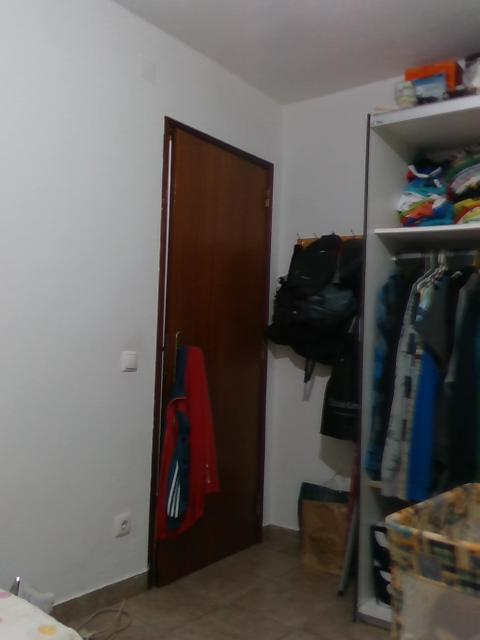door: (147, 121, 270, 571)
